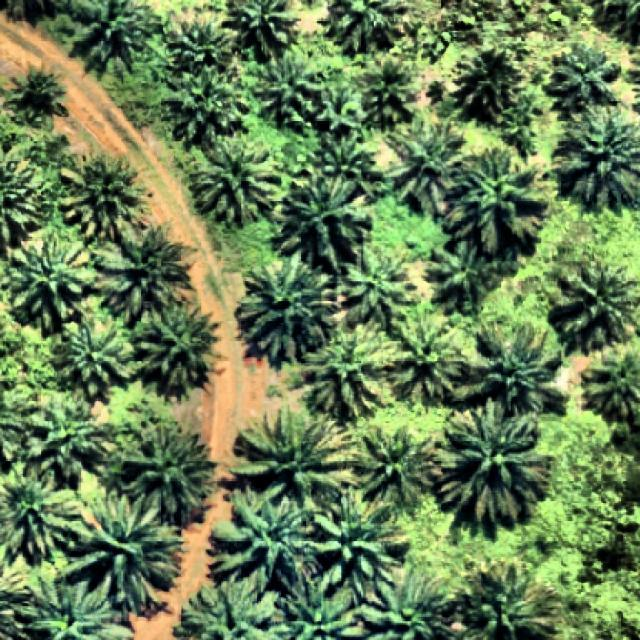Kelapa_Sawit: (58, 490, 188, 616), (432, 395, 558, 523), (226, 399, 362, 507), (233, 248, 341, 370), (442, 140, 550, 256), (116, 412, 222, 526), (266, 163, 374, 274), (205, 483, 324, 580), (464, 313, 568, 419), (98, 214, 195, 326), (58, 145, 158, 244), (314, 488, 403, 598), (300, 326, 403, 420), (382, 107, 470, 216), (136, 296, 227, 401), (6, 229, 92, 337), (186, 136, 285, 229), (384, 306, 473, 406), (351, 420, 444, 514), (548, 259, 640, 344), (340, 239, 422, 333), (162, 63, 252, 148), (31, 393, 111, 487), (54, 314, 137, 402), (304, 125, 386, 210), (450, 43, 528, 125), (546, 40, 623, 120), (252, 46, 326, 128), (162, 5, 242, 80), (424, 236, 498, 315), (354, 54, 418, 130), (12, 61, 68, 116)
